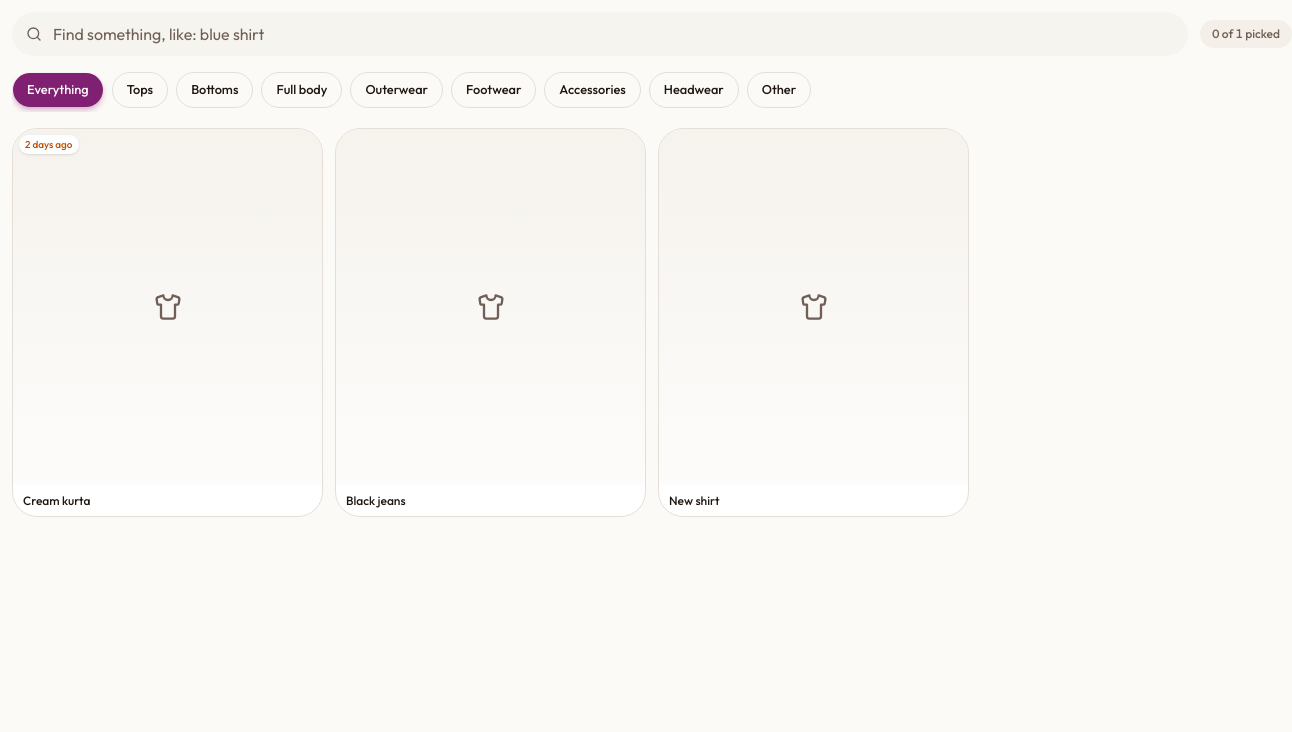
Scenario: ItemPicker › lets something already picked be tapped again to remove it, even at the limit
Click the button with aria-label "Cream kurta." at coordinates (168, 322), box left=12, top=128, right=323, bottom=517
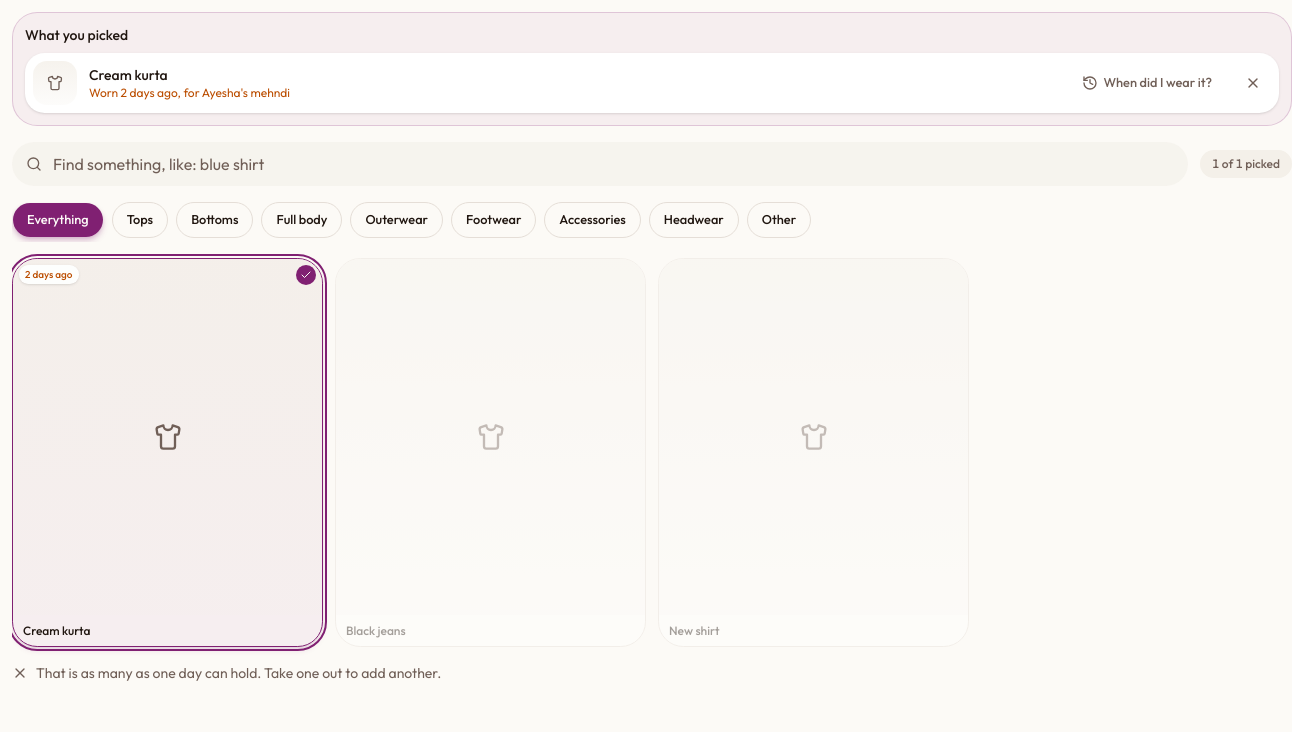
Click the button with aria-label "Cream kurta." at coordinates (168, 452), box left=12, top=258, right=323, bottom=647
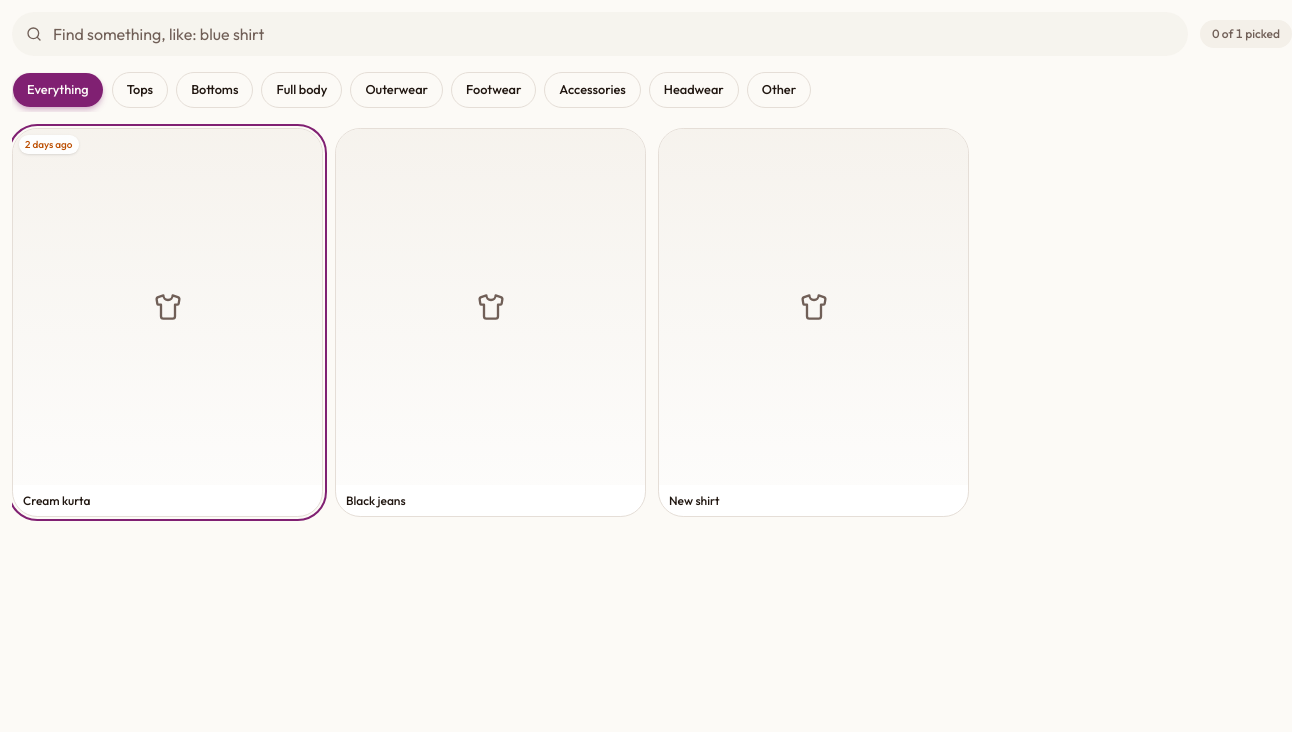
Expected: the text "0 of 1 picked" is shown, left=1200, top=20, right=1291, bottom=48
